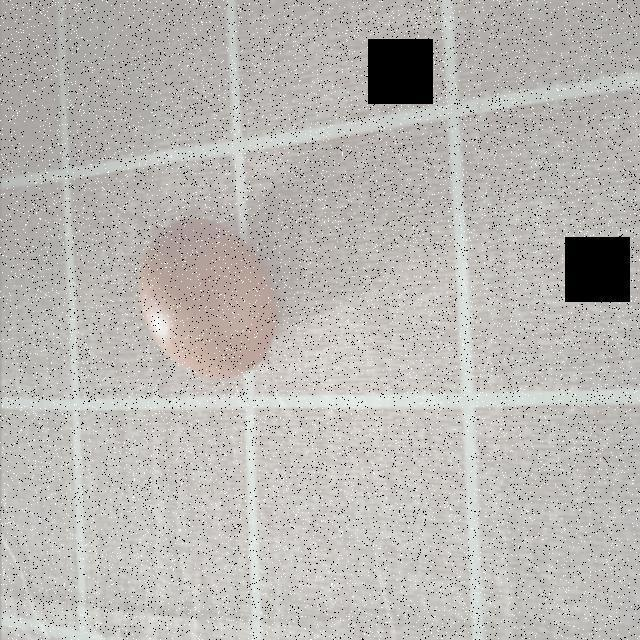egg: (130, 204, 288, 392)
